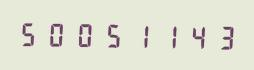five: (17, 18, 43, 48), (98, 19, 124, 49)
four: (179, 20, 205, 51)
one: (125, 19, 151, 50), (152, 20, 178, 50)
three: (206, 21, 232, 51)
zero: (44, 18, 70, 49), (71, 19, 97, 49)
